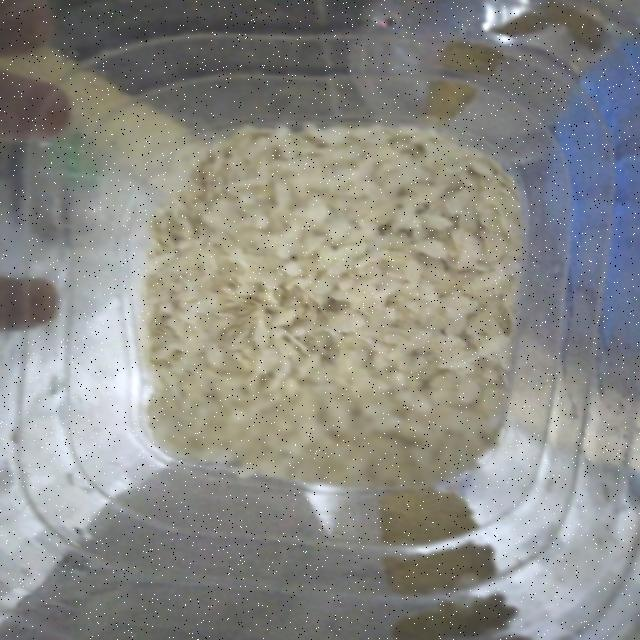Beaten Rice: (193, 166, 506, 469)
